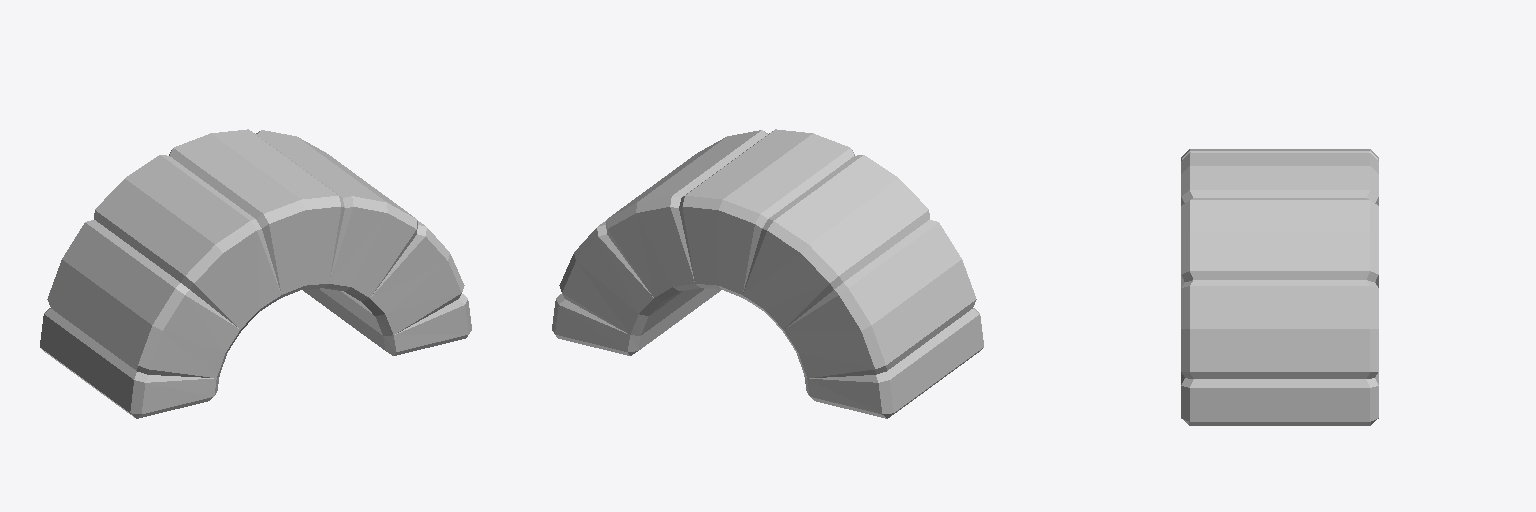
Rendered from tire_pink.obj.
The picture shows the model from 3 angles: view 1: azimuth 30°, elevation 25°; view 2: azimuth 150°, elevation 25°; view 3: azimuth 270°, elevation 25°; orthographic projection.
Parts seen in each view (by area): view 1: tire_pink; view 2: tire_pink; view 3: tire_pink.
Part boxes in pixels (left/top/right/bottom): tire_pink: left=40, top=129, right=471, bottom=418; tire_pink: left=552, top=129, right=983, bottom=418; tire_pink: left=1181, top=149, right=1378, bottom=425.
Bounding box in the file's own units: 0.8 × 0.4 × 0.4.